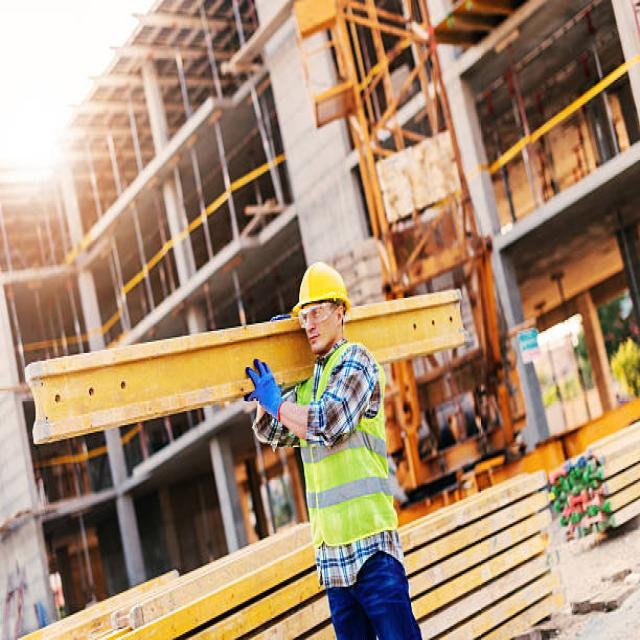gloves: (244, 356, 286, 420)
